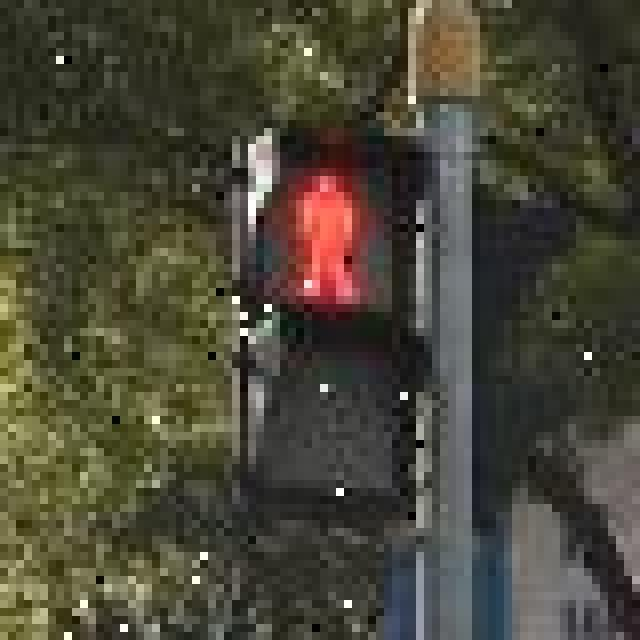redlight: (232, 120, 440, 504)
